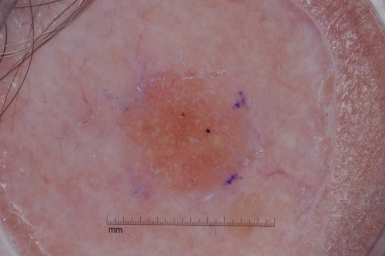seborrheic keratosis: (99, 53, 266, 209)
